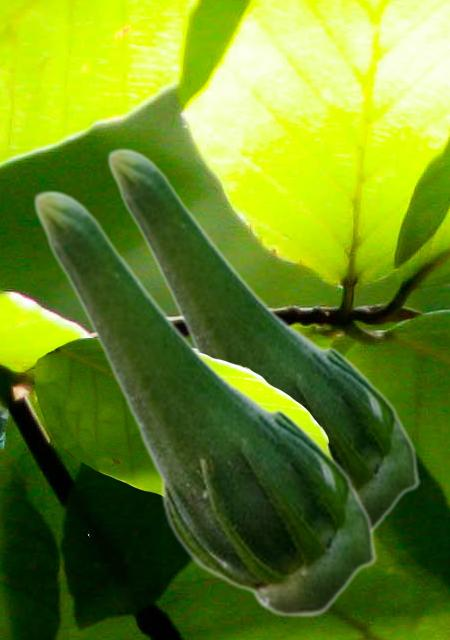okra: (32, 189, 376, 617), (106, 147, 419, 531)
